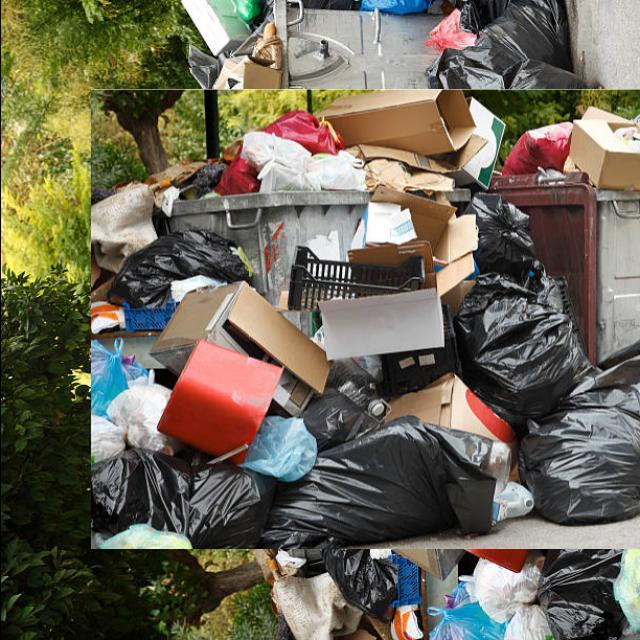Trashbag: (263, 412, 496, 536), (452, 271, 594, 425), (86, 445, 278, 548), (517, 408, 640, 524), (106, 228, 254, 320), (516, 545, 640, 640), (317, 533, 406, 628), (462, 190, 546, 281)
